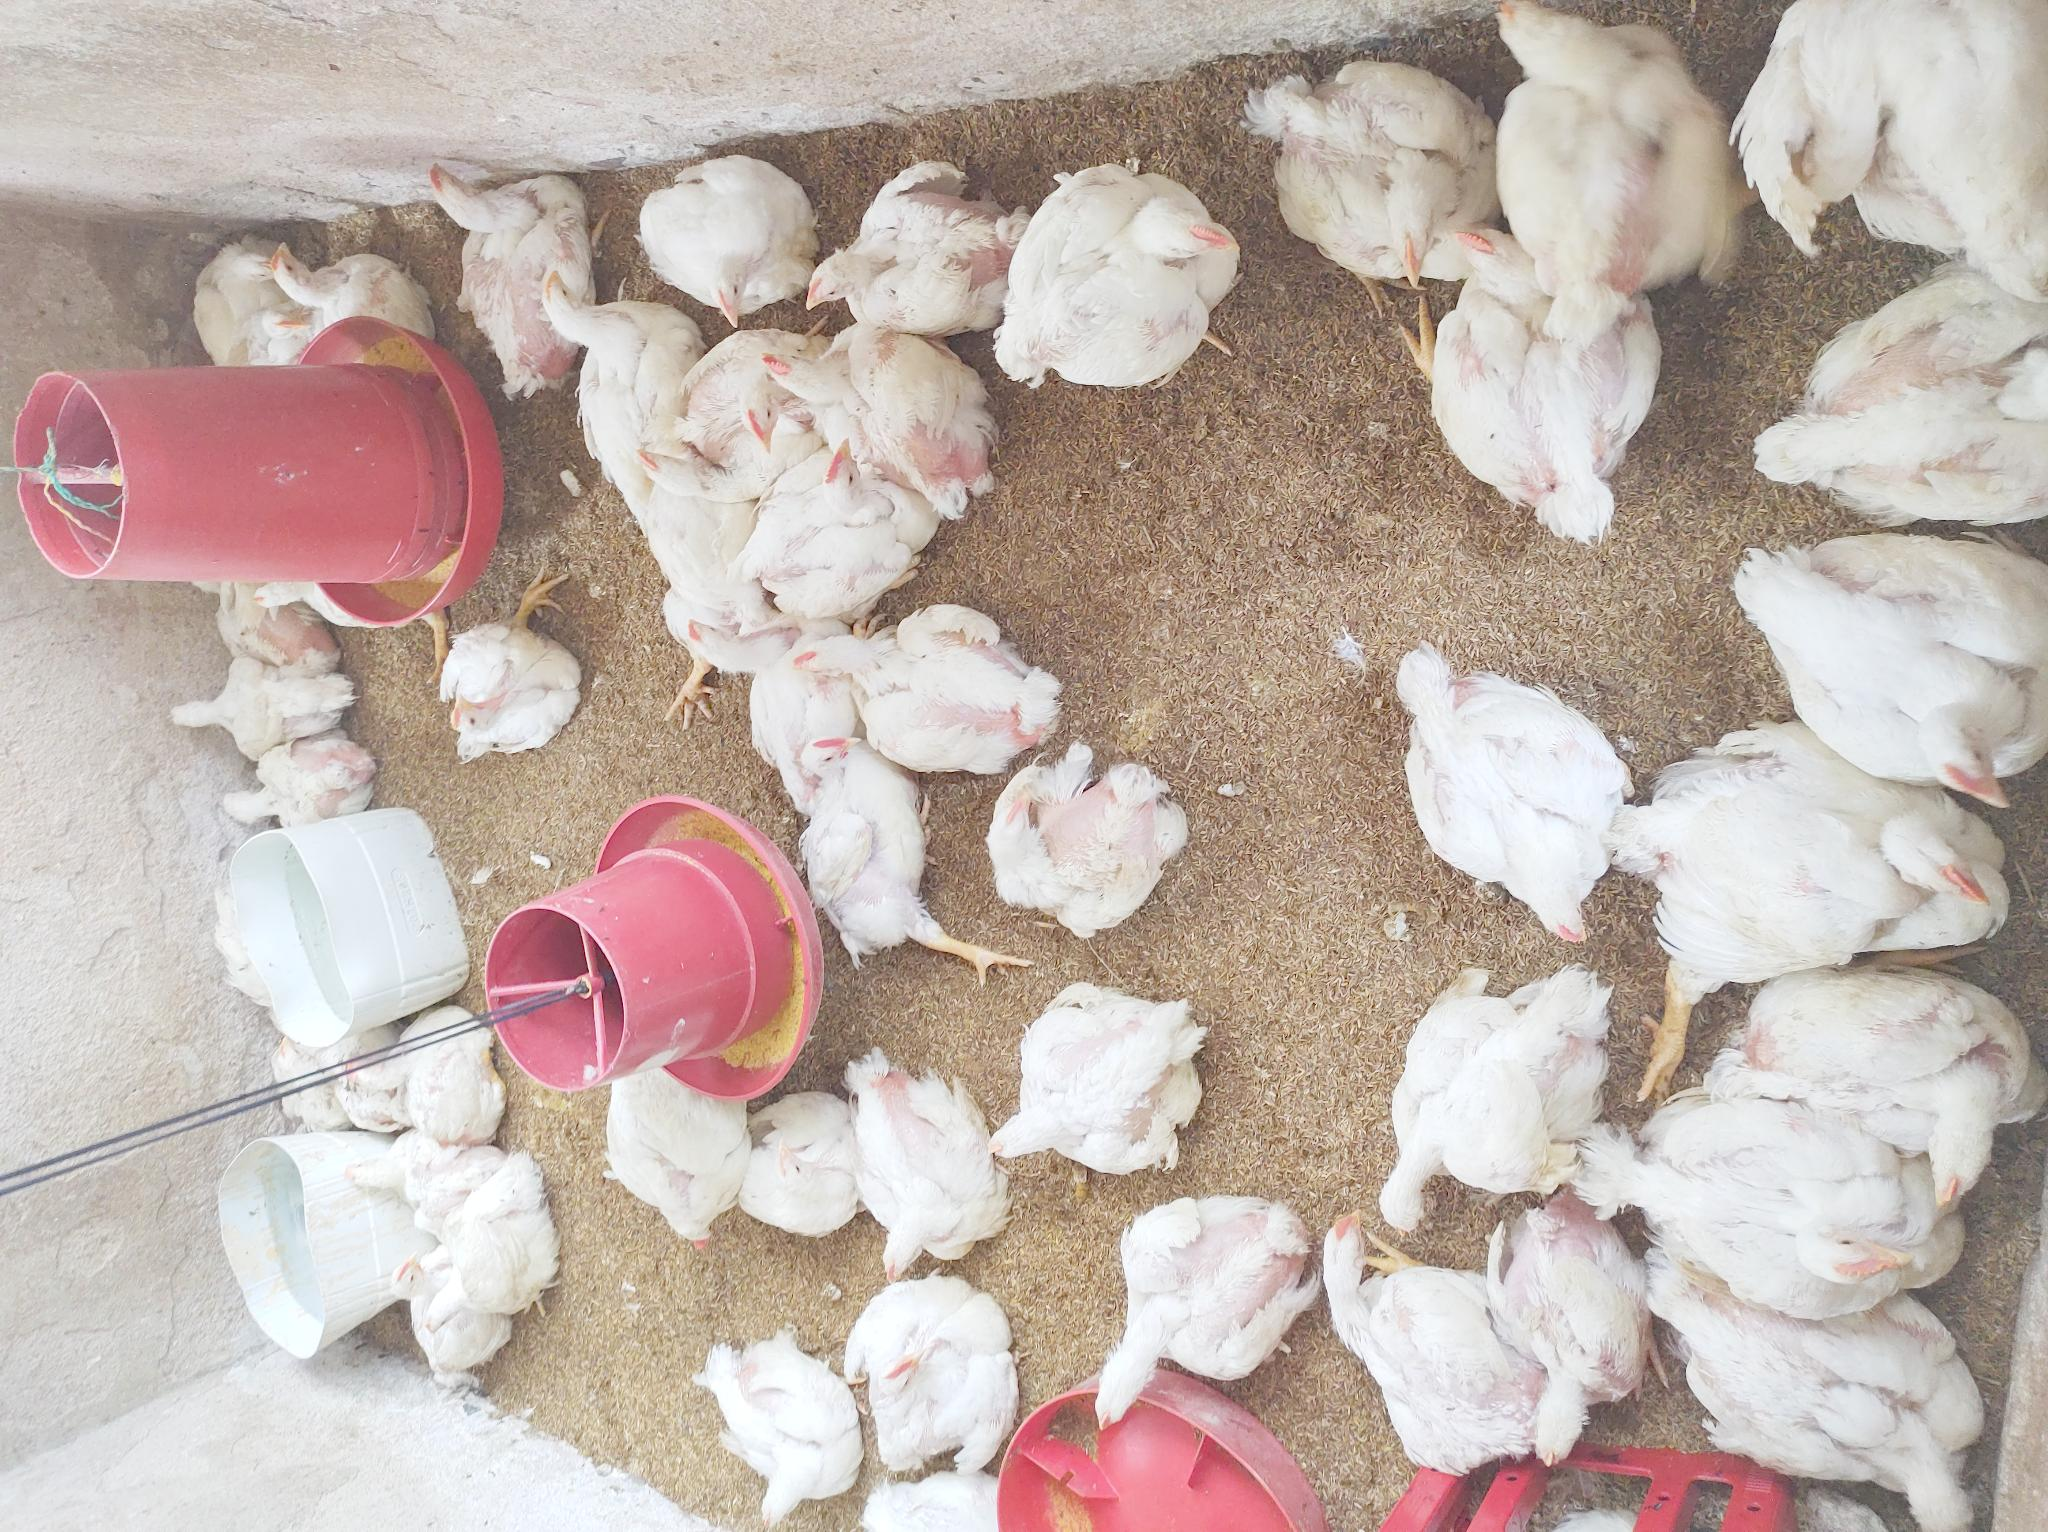Pollos: (1697, 525, 2048, 819), (1647, 723, 2032, 983), (1623, 1073, 1985, 1320), (1741, 0, 2048, 282), (1406, 180, 1652, 531), (1736, 943, 2048, 1217), (1647, 1279, 1979, 1532), (1733, 270, 2048, 526), (1387, 637, 1638, 956), (1313, 1172, 1569, 1484), (1487, 0, 1728, 304), (1363, 956, 1617, 1238), (1245, 48, 1485, 303), (996, 158, 1240, 394), (1091, 1191, 1313, 1447), (1475, 1176, 1663, 1472), (624, 418, 771, 763), (985, 978, 1207, 1184), (761, 330, 997, 521), (800, 167, 1034, 359), (824, 1052, 1018, 1283), (792, 607, 1054, 776), (980, 747, 1205, 943), (425, 154, 603, 393), (792, 719, 944, 966), (536, 270, 698, 497), (623, 151, 824, 332), (843, 1270, 1010, 1482), (692, 1328, 869, 1524), (685, 602, 861, 793), (592, 1054, 753, 1260), (735, 449, 927, 616), (420, 1152, 557, 1332), (428, 620, 586, 772), (714, 1086, 869, 1234), (343, 1012, 502, 1131), (265, 229, 425, 340), (166, 661, 360, 752), (212, 731, 380, 832), (692, 332, 819, 463), (187, 238, 322, 359), (389, 1255, 510, 1386), (259, 1028, 405, 1126), (335, 1144, 484, 1212), (214, 587, 335, 669), (249, 571, 368, 628)
